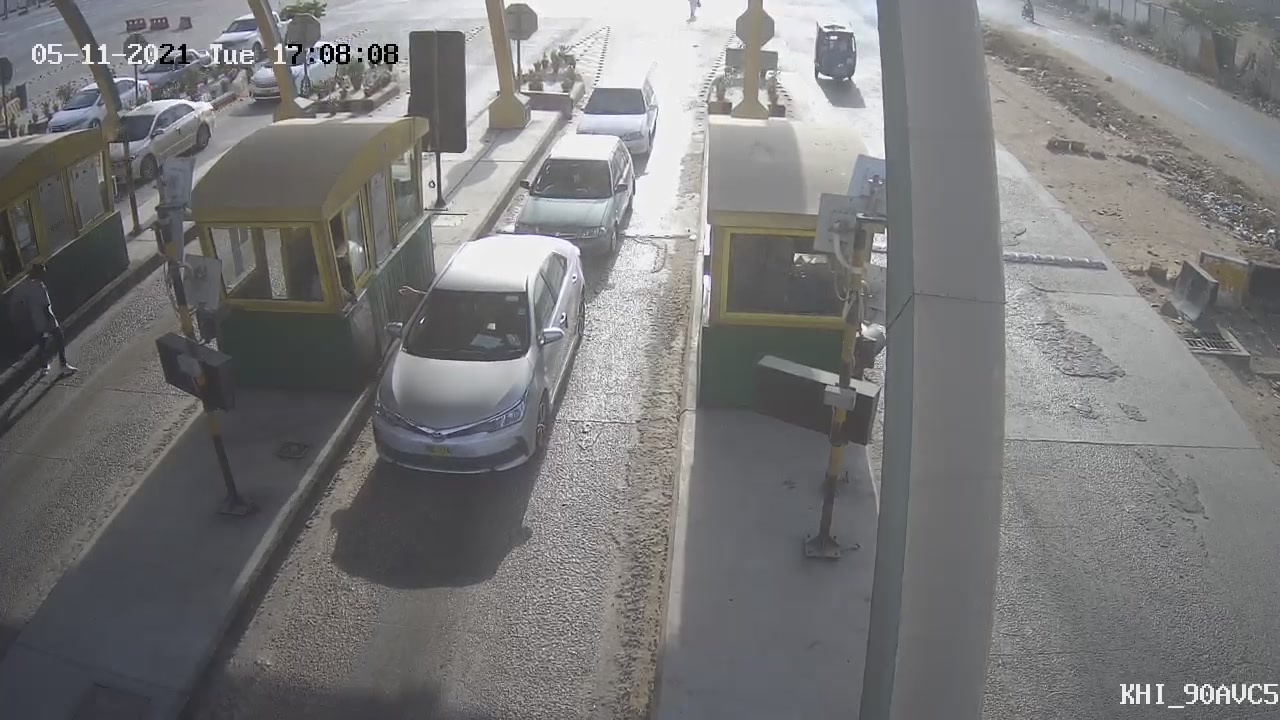F1: (346, 217, 607, 496), (500, 117, 648, 274)
